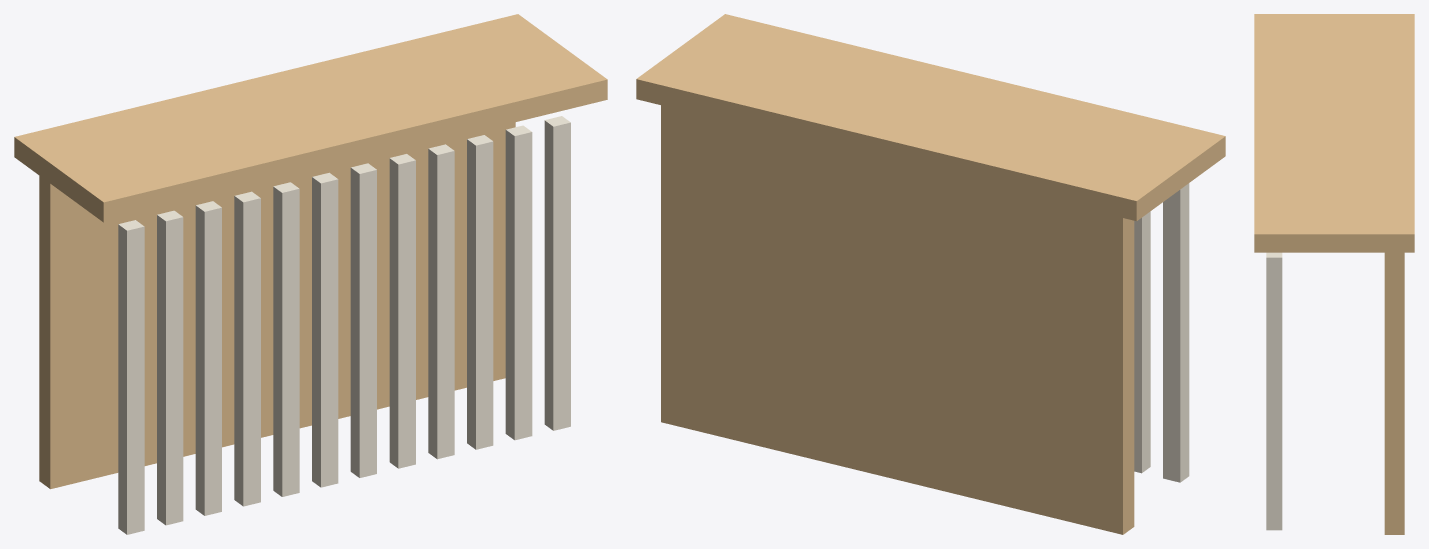
Rendered from cozy-home-interiors-radiator-cover-c6f90cd5.glb.
3 renders of one model, left to right at view 1: azimuth 30°, elevation 25°; view 2: azimuth 150°, elevation 25°; view 3: azimuth 270°, elevation 25°, orthographic. The views are drawn at different scales.
Visible parts, largest first — view 1: radiator-cover; view 2: radiator-cover; view 3: radiator-cover.
Boxes of the visible parts, bbox=[...] form: radiator-cover: bbox=[14, 14, 607, 534]; radiator-cover: bbox=[636, 14, 1225, 534]; radiator-cover: bbox=[1254, 14, 1414, 534].
Bounding box in the file's own units: 1.3 × 0.8501 × 0.4.
